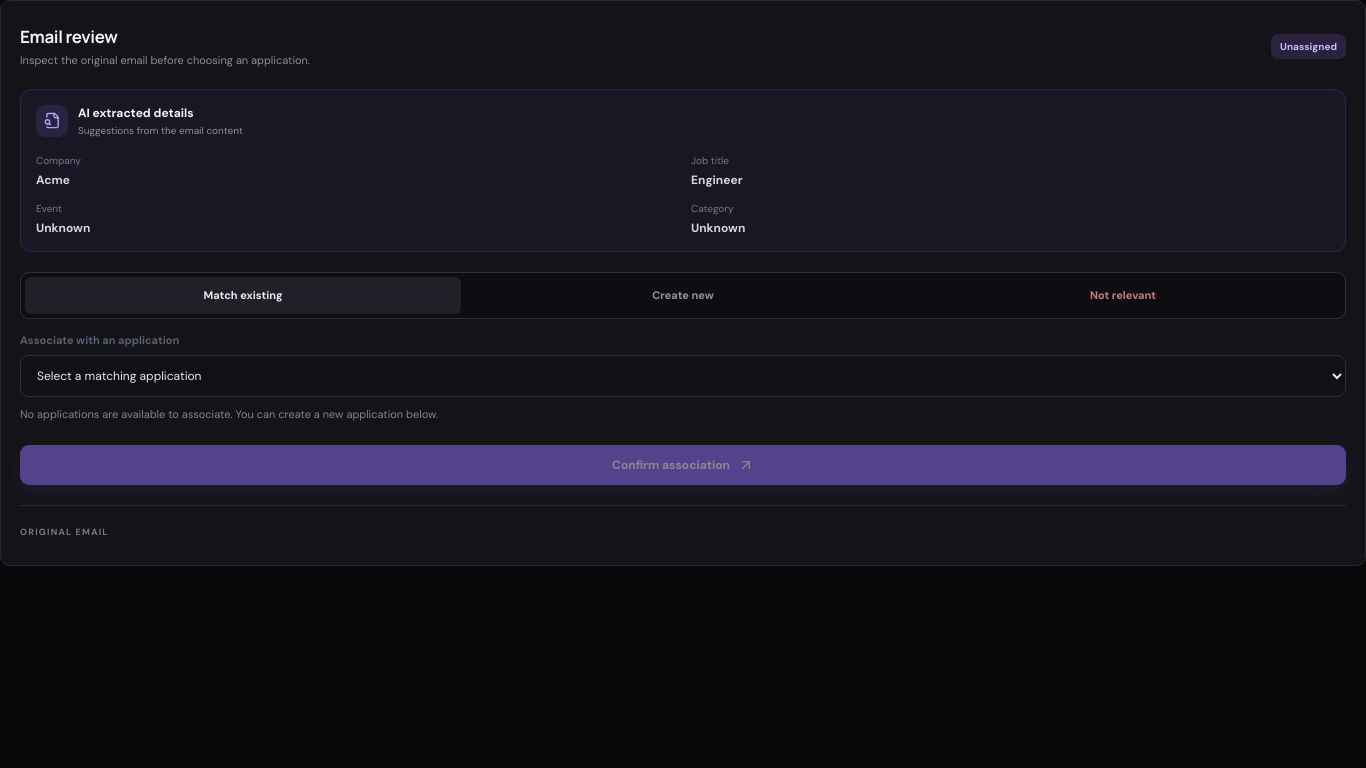
Scenario: review email application creation form › offers a separate not relevant action
Click the tab "Not relevant" at (1123, 295), box [905, 277, 1341, 314]
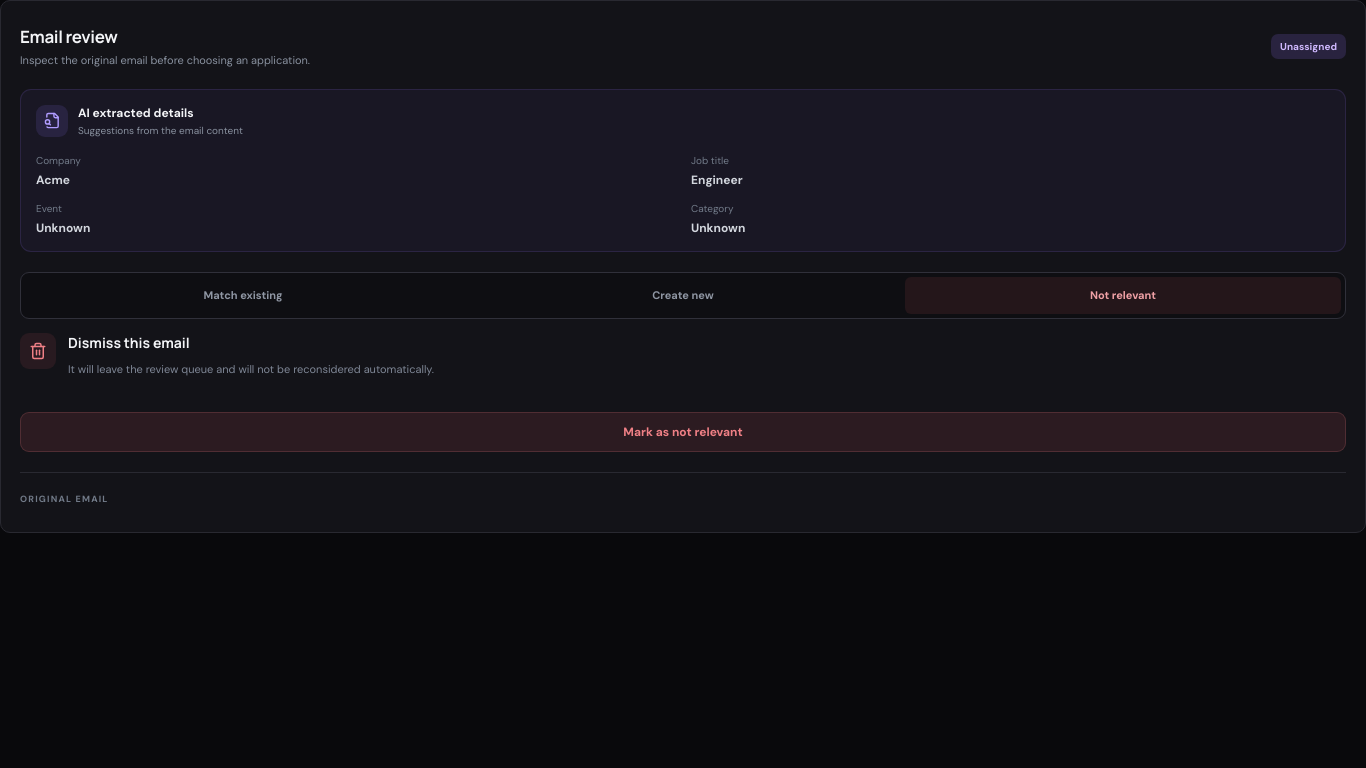
Expected: the button "Mark as not relevant" is shown, [20, 412, 1346, 452]
